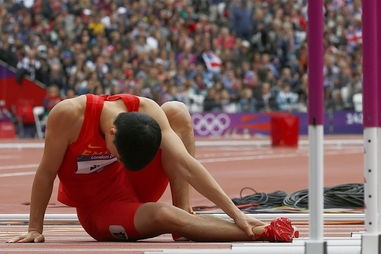falling: (9, 87, 299, 243)
